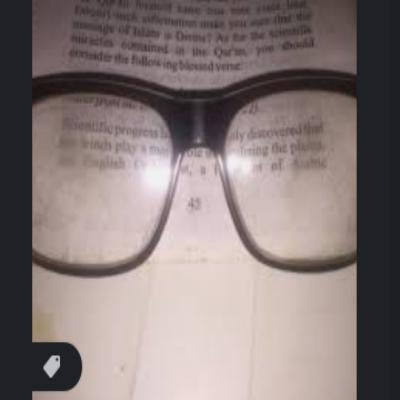glasses: (30, 60, 358, 291)
